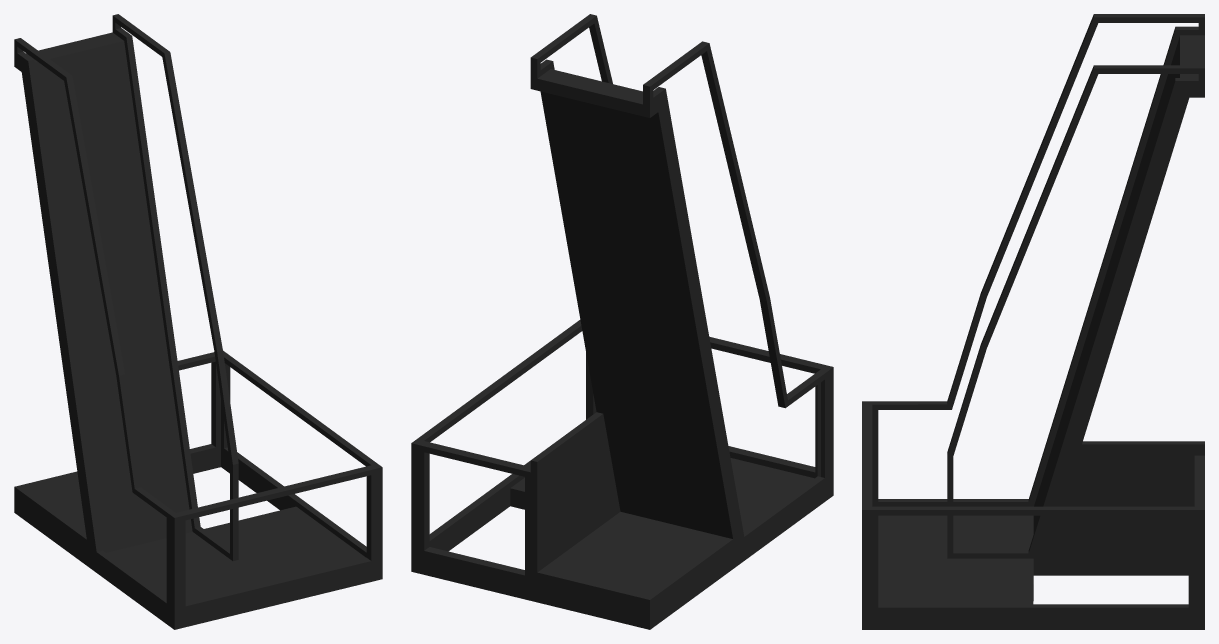
File: Apartment Stairs.FBX
3 renders of one model, left to right at view 1: azimuth 30°, elevation 25°; view 2: azimuth 150°, elevation 25°; view 3: azimuth 270°, elevation 25°, orthographic. The views are drawn at different scales.
Visible parts, largest first — view 1: Apartment stairs; view 2: Apartment stairs; view 3: Apartment stairs.
Part boxes in pixels (x1,y1,x2,y2): Apartment stairs: (14, 14, 382, 629); Apartment stairs: (411, 14, 833, 629); Apartment stairs: (862, 14, 1204, 629).
Size of the model in its own units: 69.94 by 152 by 93.2.
Materials: 1 (1 with a texture image).
